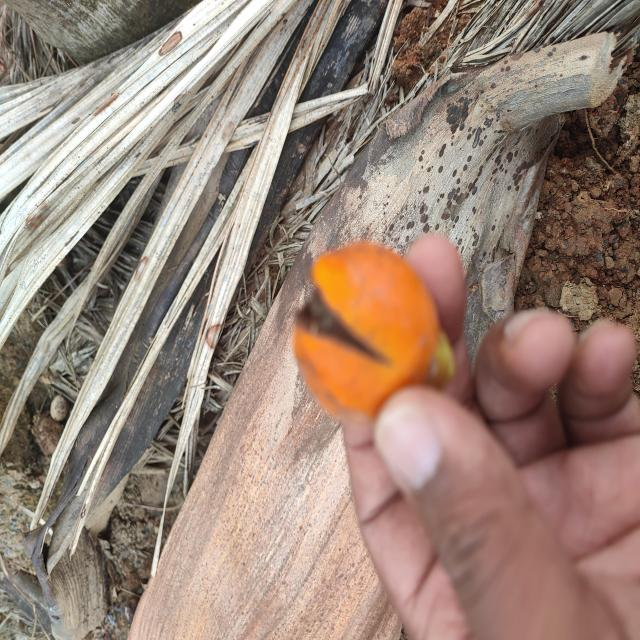damaged: (294, 242, 454, 420)
